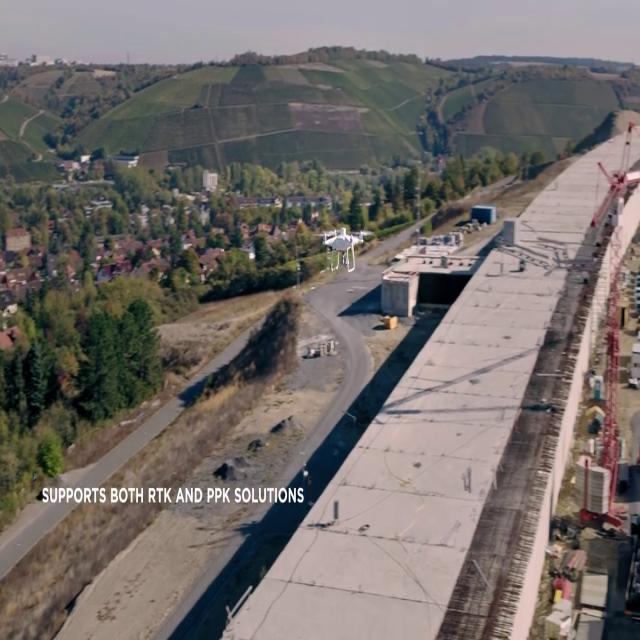drone: (312, 222, 376, 271)
